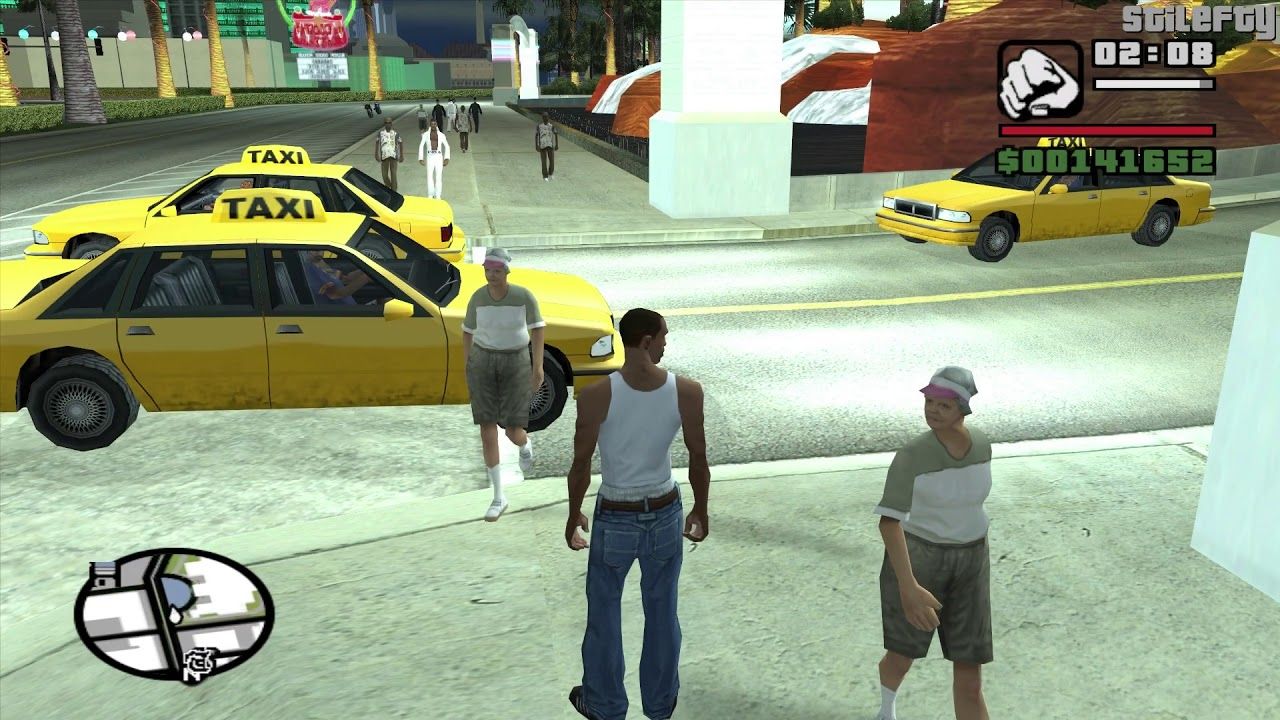car: (4, 218, 629, 439), (882, 141, 1229, 268)
person: (573, 311, 715, 720), (893, 374, 999, 720), (467, 248, 552, 522), (413, 120, 452, 201), (371, 116, 411, 191), (531, 109, 565, 190), (451, 104, 475, 156)
